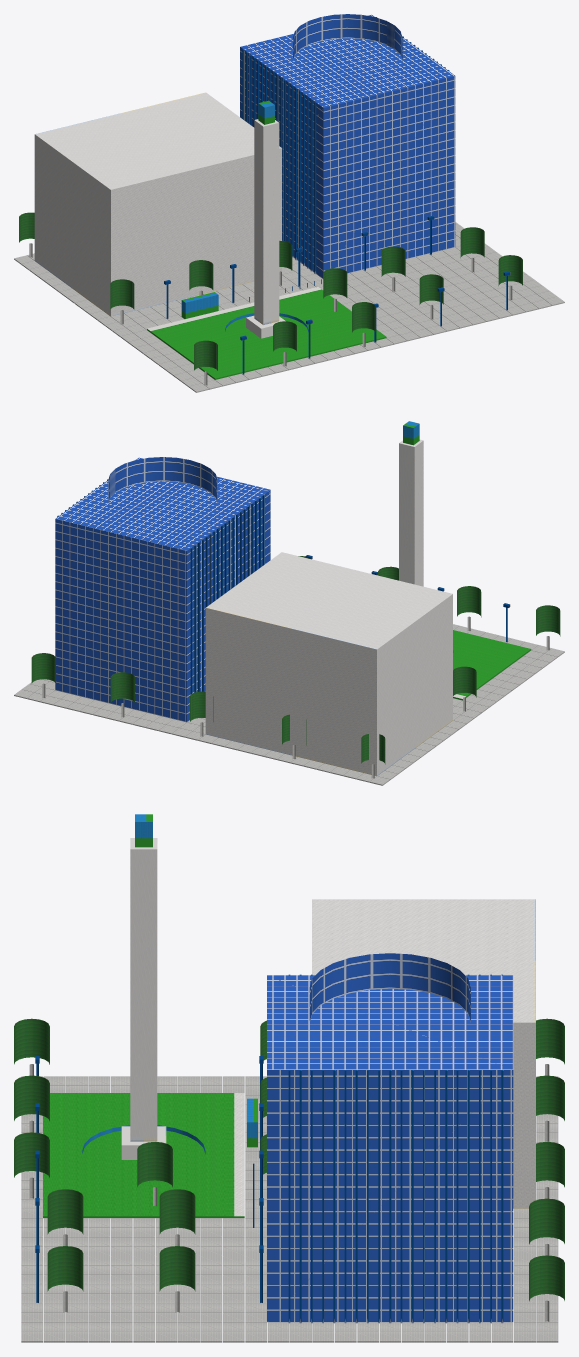
3 views of the same model, one above another, from view 1: azimuth 30°, elevation 25°; view 2: azimuth 150°, elevation 25°; view 3: azimuth 270°, elevation 25° (orthographic). The views are drawn at different scales.
Visible parts, largest first — view 1: 28185_B23_INU_Songdo_Campus; view 2: 28185_B23_INU_Songdo_Campus; view 3: 28185_B23_INU_Songdo_Campus.
Part boxes in pixels (bbox=[...]): 28185_B23_INU_Songdo_Campus: bbox=[14, 14, 564, 392]; 28185_B23_INU_Songdo_Campus: bbox=[14, 421, 564, 785]; 28185_B23_INU_Songdo_Campus: bbox=[14, 814, 564, 1342].
Size of the model in its own units: 55.95 by 33.5 by 49.2.
1 material, 1 textured.
